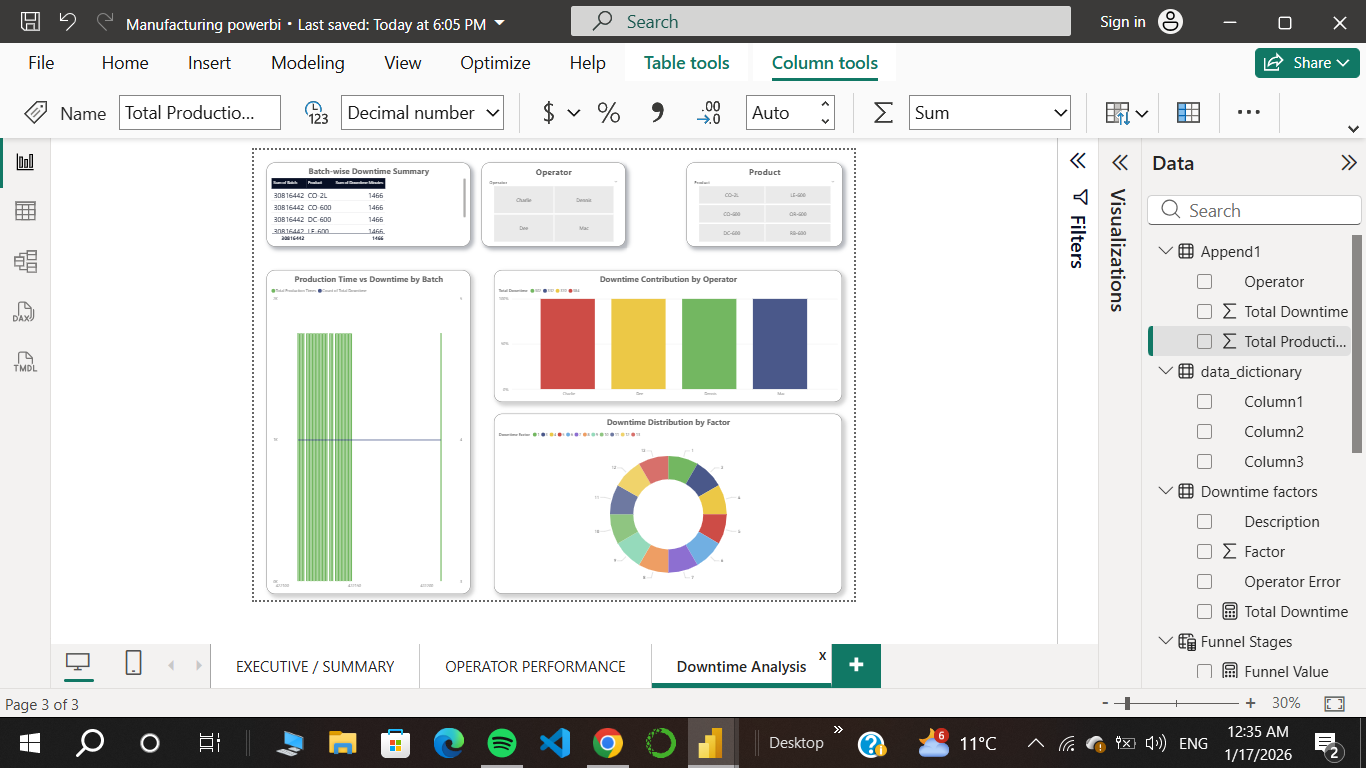

The page's visual inventory and layout, read from the dashboard file:
{"tool":"powerbi","page":{"name":"Downtime  Analysis","canvas":[1600,1200],"ordinal":2},"visuals":[{"type":"hundredPercentStackedColumnChart","title":"Downtime Contribution by Operator","fields":{"Category":["Line productivity.Operator"],"Series":["Line productivity.Total Downtime"],"Y":["Line downtime.Downtime Factor"]},"box":[640,320,928,352],"z":0},{"type":"donutChart","title":"Downtime Distribution by Factor","fields":{"Category":["Line downtime.Downtime Factor"],"Y":["Line productivity.Total Downtime"]},"box":[640,704,928,480],"z":1000},{"type":"lineClusteredColumnComboChart","title":"Production Time vs Downtime by Batch","fields":{"Category":["Line downtime.Batch"],"Y":["Line downtime.Total Production Times"],"Y2":["Line productivity.Total Downtime"]},"box":[32,320,544,864],"z":2000},{"type":"tableEx","title":"Batch-wise Downtime Summary","fields":{"Values":["Line downtime.Batch","Products.Product","Line downtime.Downtime Minutes"]},"box":[32,32,544,224],"z":3000},{"type":"slicer","title":"Operator","fields":{"Values":["Line productivity.Operator"]},"box":[608,32,384,224],"z":4000},{"type":"slicer","title":"Product","fields":{"Values":["Products.Product"]},"box":[1152,32,416,224],"z":5000}]}

Visuals, with their boxes on the page's 1600x1200 design canvas (x1, y1, x2, y2). These are canvas units, not pixel positions in the 1366x768 screenshot, which may show the page scaled, cropped or inside an application window:
"Downtime Contribution by Operator" hundredPercentStackedColumnChart: (640, 320, 1568, 672)
"Downtime Distribution by Factor" donutChart: (640, 704, 1568, 1184)
"Production Time vs Downtime by Batch" lineClusteredColumnComboChart: (32, 320, 576, 1184)
"Batch-wise Downtime Summary" tableEx: (32, 32, 576, 256)
"Operator" slicer: (608, 32, 992, 256)
"Product" slicer: (1152, 32, 1568, 256)
